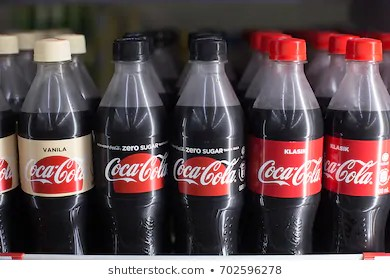coke-bottle-700ml: (251, 31, 319, 253), (328, 30, 389, 253)
coke-diet/zero-bottle-700ml: (92, 29, 175, 255), (18, 29, 92, 252), (175, 28, 245, 253)
